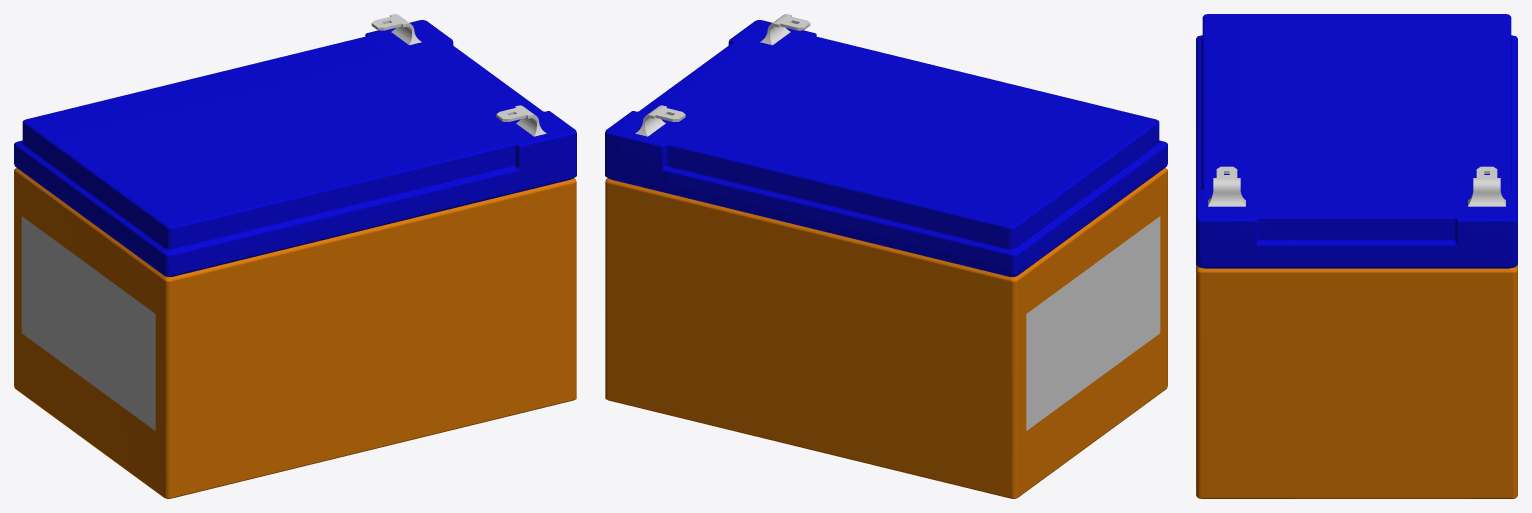
File: Аккумулятор ИБП 15Ah.fbx
The picture shows the model from 3 angles, left to right: view 1: azimuth 30°, elevation 25°; view 2: azimuth 150°, elevation 25°; view 3: azimuth 270°, elevation 25°; orthographic projection. The views are drawn at different scales.
Visible parts, largest first — view 1: AKB_korpus, Plane_15Ah, AKB_klemma_minus, AKB_klemma_plus; view 2: AKB_korpus, Plane_15Ah, AKB_klemma_plus, AKB_klemma_minus; view 3: AKB_korpus, AKB_klemma_plus, AKB_klemma_minus.
Boxes of the visible parts, <box> form: AKB_korpus: <box>14,20,576,498</box>; Plane_15Ah: <box>21,216,155,430</box>; AKB_klemma_minus: <box>371,14,421,45</box>; AKB_klemma_plus: <box>496,105,546,136</box>; AKB_korpus: <box>605,20,1167,498</box>; Plane_15Ah: <box>1026,216,1160,430</box>; AKB_klemma_plus: <box>760,14,810,45</box>; AKB_klemma_minus: <box>635,105,685,136</box>; AKB_korpus: <box>1196,14,1517,498</box>; AKB_klemma_plus: <box>1208,166,1245,206</box>; AKB_klemma_minus: <box>1468,166,1505,206</box>.
Size of the model in its own units: 15.12 by 10.08 by 9.8.
